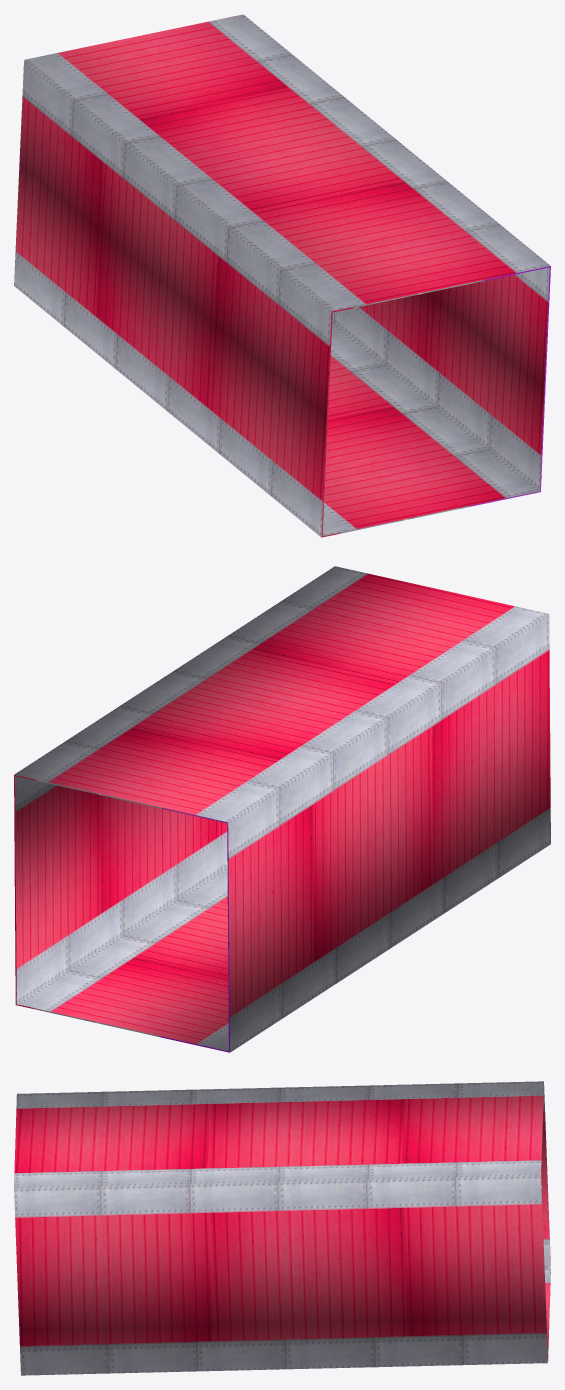
3 views of the same model, one above another, from view 1: azimuth 30°, elevation 25°; view 2: azimuth 150°, elevation 25°; view 3: azimuth 270°, elevation 25° (orthographic). The views are drawn at different scales.
Parts seen in each view (by area): view 1: Tube002; view 2: Tube002; view 3: Tube002.
Boxes of the visible parts, x1,y1,x2,y2 form: Tube002: (14, 14, 550, 537); Tube002: (14, 566, 550, 1052); Tube002: (14, 1081, 550, 1375).
Size of the model in its own units: 7.59 by 7.92 by 18.26.
Materials: 1 (1 with a texture image).
